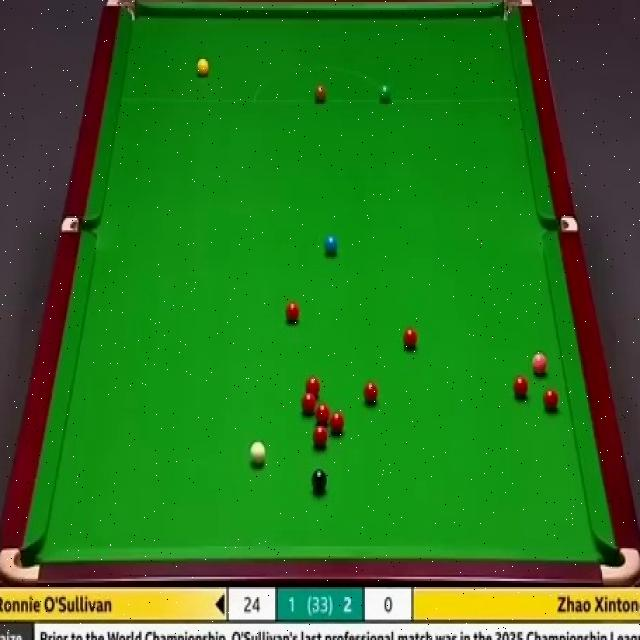black-ball: (311, 468, 327, 494)
blue-ball: (323, 233, 339, 255)
brown-ball: (314, 83, 326, 104)
green-ball: (378, 85, 394, 106)
pink-ball: (532, 351, 548, 376)
red-ball: (514, 375, 531, 400), (363, 380, 379, 405), (330, 412, 346, 437), (284, 302, 300, 324), (544, 389, 559, 411), (313, 426, 327, 449), (403, 327, 416, 351), (315, 406, 332, 424), (304, 376, 321, 393), (301, 392, 316, 408)
white-ball: (250, 441, 266, 466)
yellow-ball: (197, 59, 210, 79)
